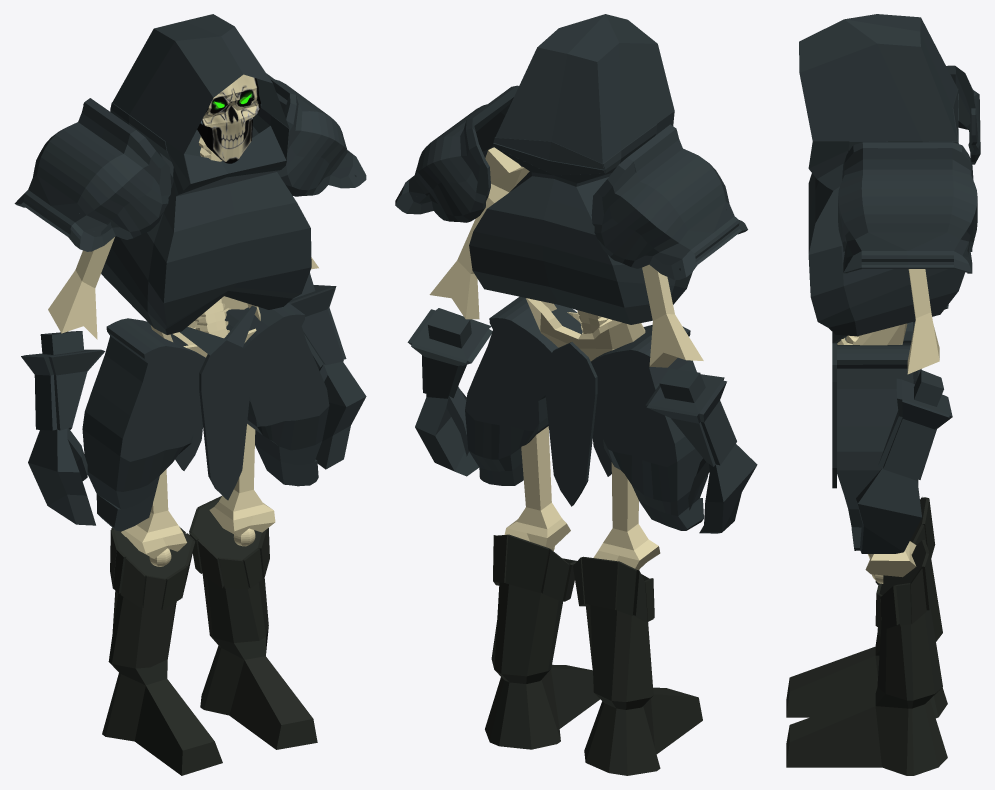
File: SM_SkeletonEnemy_01.fbx
The picture shows the model from 3 angles, left to right: view 1: azimuth 30°, elevation 25°; view 2: azimuth 150°, elevation 25°; view 3: azimuth 270°, elevation 25°; orthographic projection.
Parts seen in each view (by area): view 1: Enemigo Skeleton; view 2: Enemigo Skeleton; view 3: Enemigo Skeleton.
Part boxes in pixels (x1,y1,x2,y2): Enemigo Skeleton: (14,14,366,775); Enemigo Skeleton: (395,14,757,775); Enemigo Skeleton: (786,14,980,775).
Bounding box in the file's own units: 0.8745 × 1.9 × 0.4684.
